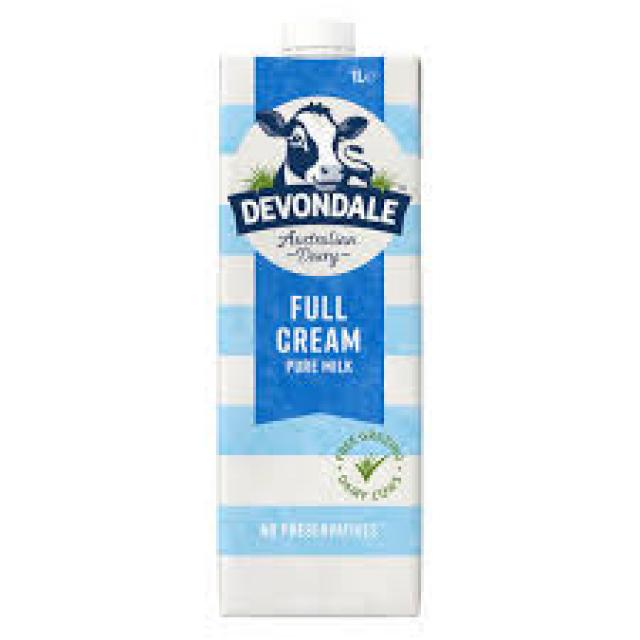non_white_jug: (192, 10, 422, 616)
